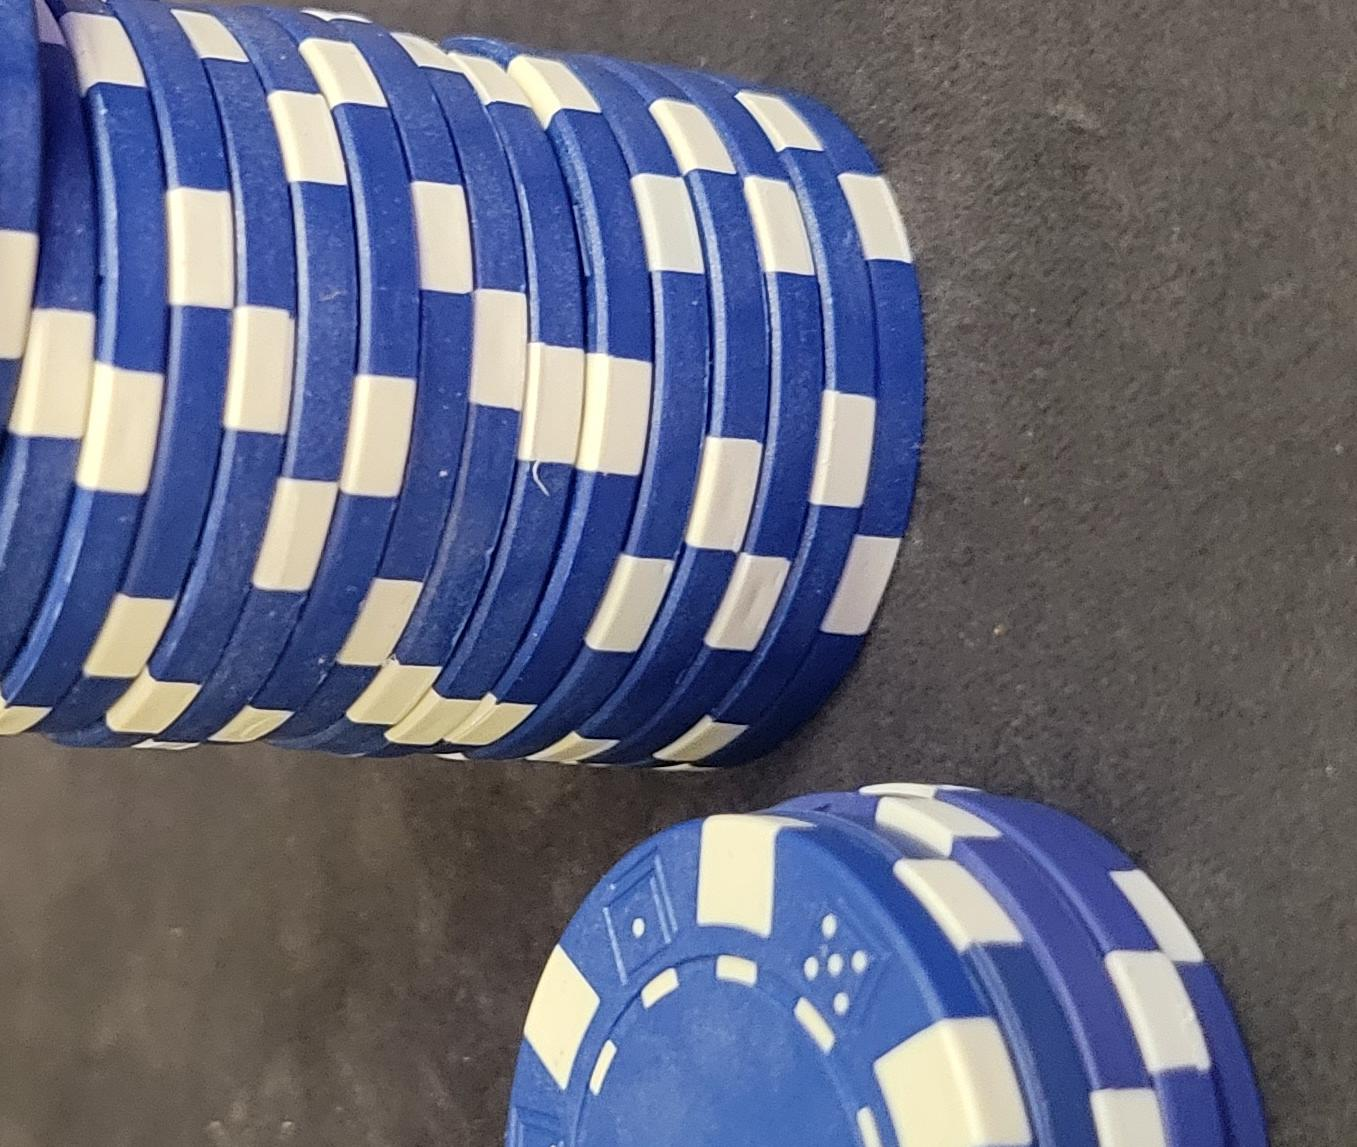Chip: (1, 306, 569, 1147)
